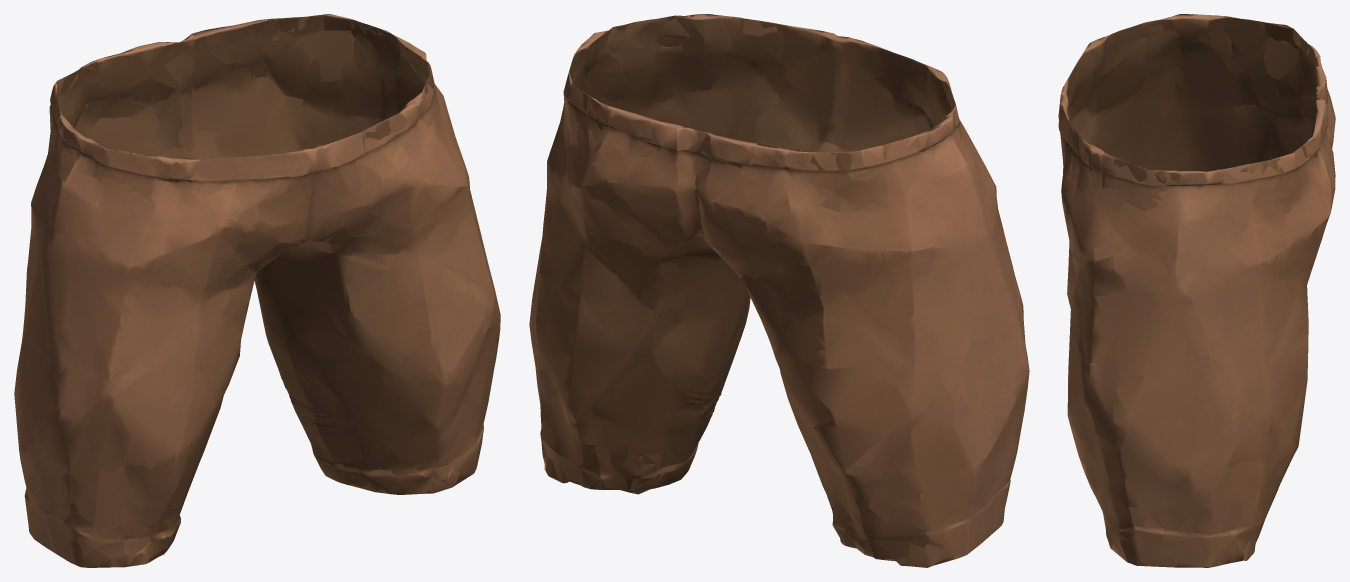
Rendered from short-trousers.glb.
3 renders of one model, left to right at view 1: azimuth 30°, elevation 25°; view 2: azimuth 150°, elevation 25°; view 3: azimuth 270°, elevation 25°, orthographic. The views are drawn at different scales.
Parts seen in each view (by area): view 1: Module_short-trousers_006_0; view 2: Module_short-trousers_006_0; view 3: Module_short-trousers_006_0.
Boxes of the visible parts, x1,y1,x2,y2 form: Module_short-trousers_006_0: [14, 14, 500, 567]; Module_short-trousers_006_0: [529, 14, 1029, 567]; Module_short-trousers_006_0: [1058, 14, 1335, 567].
Bounding box in the file's own units: 0.3838 × 0.3437 × 0.2222.
Materials: 1 (1 with a texture image).
